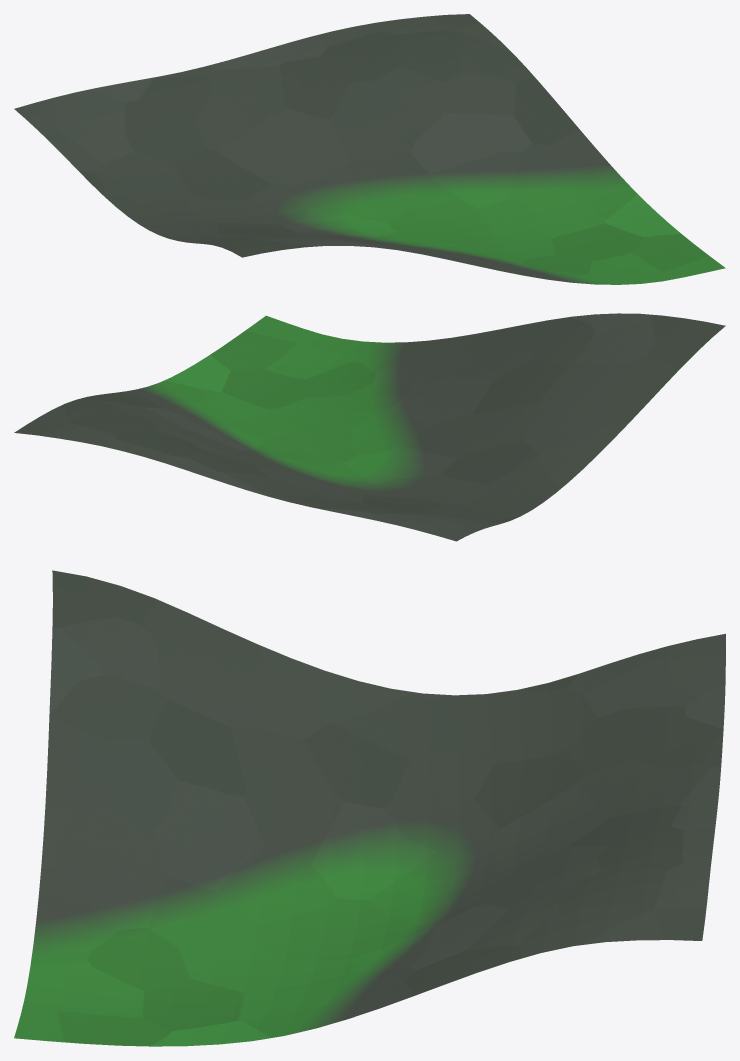
The model's file is Hill_4.glb.
3 views of the same model, one above another, from view 1: azimuth 30°, elevation 25°; view 2: azimuth 150°, elevation 25°; view 3: azimuth 270°, elevation 25° (orthographic). The views are drawn at different scales.
Visible parts, largest first — view 1: Hill_4; view 2: Hill_4; view 3: Hill_4.
Boxes of the visible parts, x1,y1,x2,y2 form: Hill_4: (14, 14, 725, 284); Hill_4: (14, 313, 725, 541); Hill_4: (14, 570, 725, 1046).
Bounding box in the file's own units: 15.73 × 3.94 × 14.97.
Materials: 1 (1 with a texture image).
